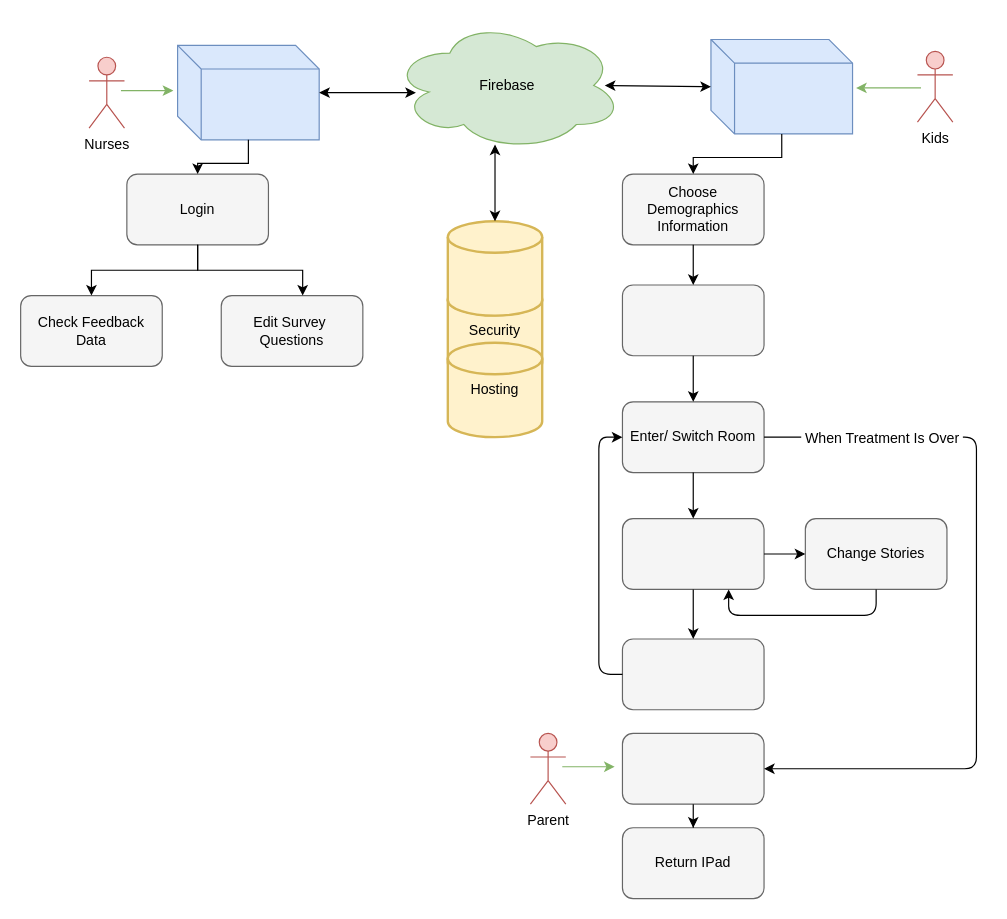
This 1007x919 diagram has some shape labels left out. Here are the shapes that lost their labels. From the top down, the centre of each, then its label:
[247,92]: Web App
[781,86]: iPad
[494,267]: Database
[692,320]: Select Character for the Day
[692,553]: Scan QR Code Begin Entertainment
[692,674]: Get Patient Feedback
[692,768]: Get Parent Feedback
